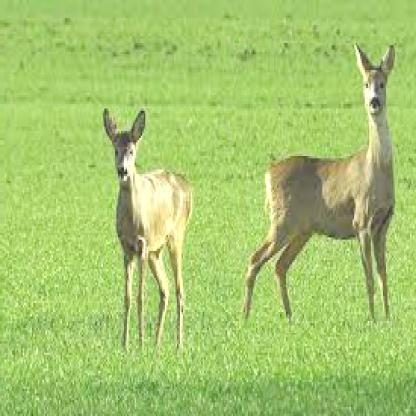Deer: (236, 43, 398, 333), (99, 105, 196, 357)
